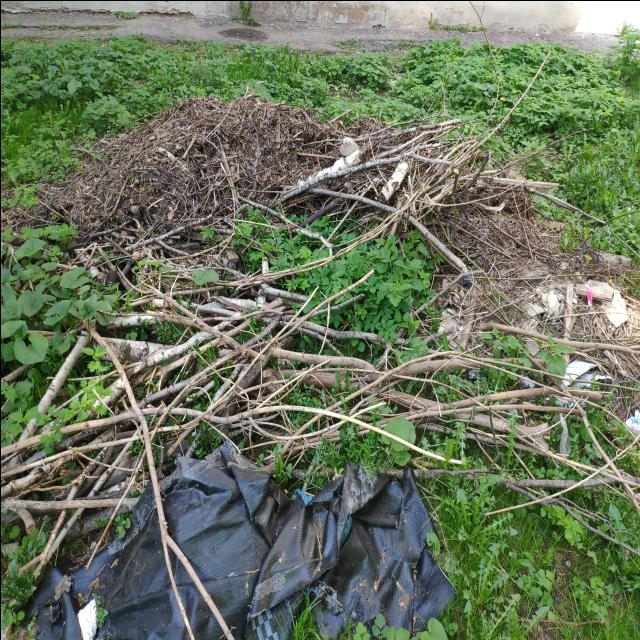restos de madeira: (1, 350, 483, 502), (406, 228, 598, 348), (95, 268, 336, 358), (492, 426, 640, 499), (157, 524, 235, 640), (266, 149, 448, 197), (59, 137, 152, 224), (106, 357, 158, 488), (0, 521, 53, 636), (0, 330, 86, 396), (292, 218, 390, 268), (19, 507, 81, 578), (404, 210, 474, 270), (484, 394, 600, 429), (120, 220, 237, 254), (2, 186, 78, 233), (302, 184, 398, 218), (404, 272, 470, 318), (0, 492, 141, 512), (235, 195, 318, 228), (530, 122, 608, 151), (71, 446, 144, 476), (256, 280, 334, 306), (1, 461, 49, 497), (214, 136, 236, 210), (94, 312, 170, 332), (201, 101, 233, 143), (516, 614, 610, 626), (487, 174, 557, 189), (10, 504, 36, 534), (421, 116, 463, 132), (474, 197, 506, 213), (179, 130, 197, 158)
